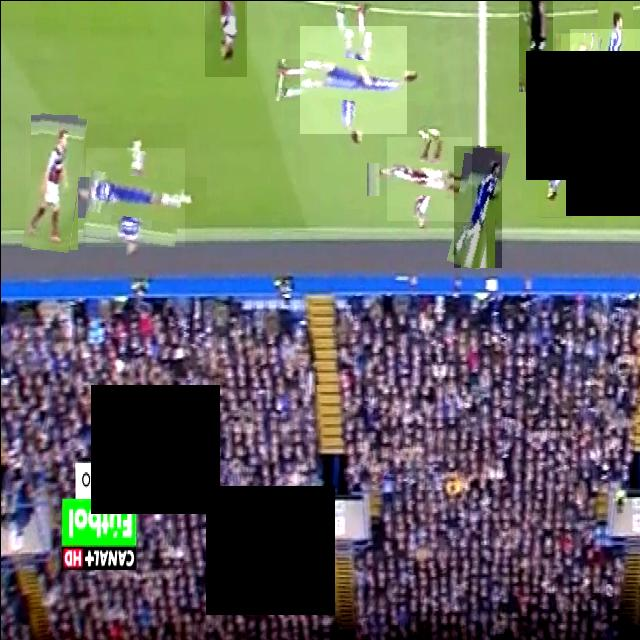referee: (518, 0, 552, 91)
soccer-player: (299, 25, 406, 133), (85, 147, 184, 246), (25, 113, 83, 251), (386, 136, 471, 220), (569, 28, 640, 120), (555, 32, 597, 178), (453, 144, 501, 266), (536, 86, 570, 217), (204, 0, 246, 76)
